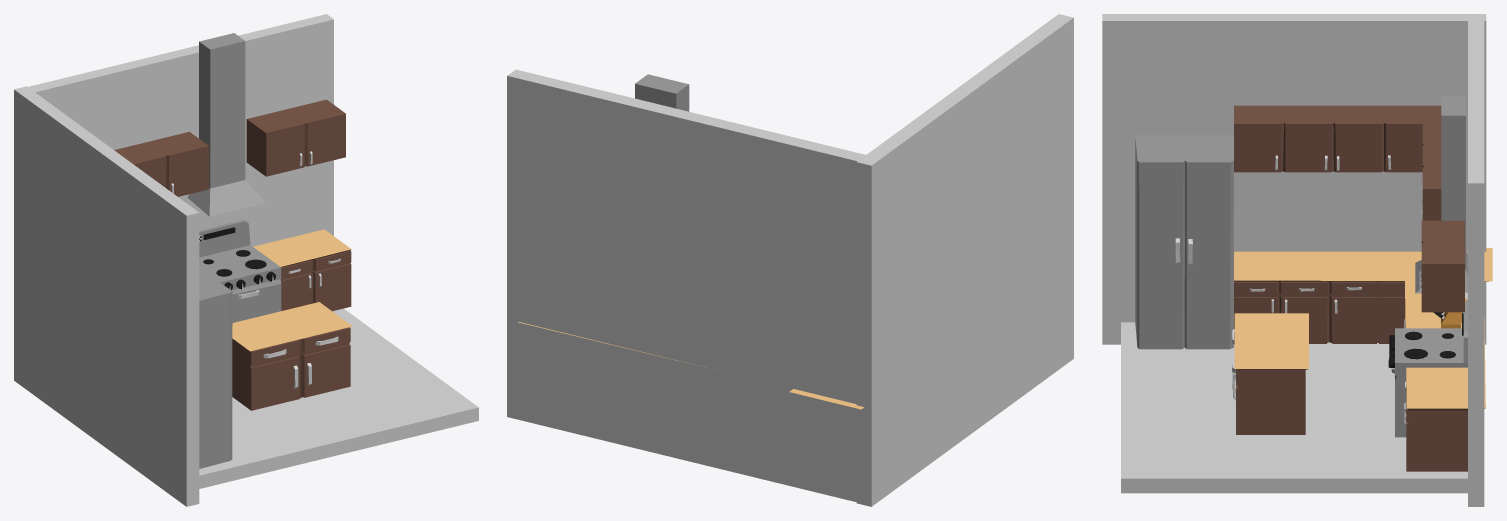
File: Kitchen.glb
3 renders of one model, left to right at view 1: azimuth 30°, elevation 25°; view 2: azimuth 150°, elevation 25°; view 3: azimuth 270°, elevation 25°, orthographic. The views are drawn at different scales.
Visible parts, largest first — view 1: group9585808, group1810159463, group107145946, group1348253054, group1000109285, group536980032, group384672652, group1142142446, group900006215, group1955243732; view 2: group1810159463, group9585808, group1000109285; view 3: group9585808, group107145946, group536980032, group1913738476, group2142097961, group1348253054, group1810159463, group1142142446, group384672652, group1000109285, group900006215, group1955243732.
Boxes of the visible parts, bbox=[...] form: group9585808: bbox=[14, 86, 199, 506]; group1810159463: bbox=[28, 14, 333, 246]; group107145946: bbox=[199, 308, 478, 488]; group1348253054: bbox=[232, 302, 352, 410]; group1000109285: bbox=[187, 33, 265, 216]; group536980032: bbox=[199, 267, 232, 468]; group384672652: bbox=[246, 99, 345, 176]; group1142142446: bbox=[253, 229, 351, 311]; group900006215: bbox=[199, 219, 281, 322]; group1955243732: bbox=[114, 131, 208, 196]; group1810159463: bbox=[507, 69, 865, 502]; group9585808: bbox=[856, 14, 1073, 506]; group1000109285: bbox=[635, 74, 689, 111]; group9585808: bbox=[1102, 14, 1486, 344]; group107145946: bbox=[1121, 322, 1467, 493]; group536980032: bbox=[1135, 135, 1233, 349]; group1913738476: bbox=[1234, 248, 1492, 343]; group2142097961: bbox=[1234, 105, 1441, 172]; group1348253054: bbox=[1234, 313, 1308, 434]; group1810159463: bbox=[1468, 21, 1484, 506]; group1142142446: bbox=[1405, 273, 1485, 471]; group384672652: bbox=[1421, 220, 1464, 312]; group1000109285: bbox=[1415, 96, 1467, 293]; group900006215: bbox=[1395, 301, 1467, 437]; group1955243732: bbox=[1422, 124, 1441, 220].
Size of the model in its own units: 1.95 by 1.81 by 1.9.
